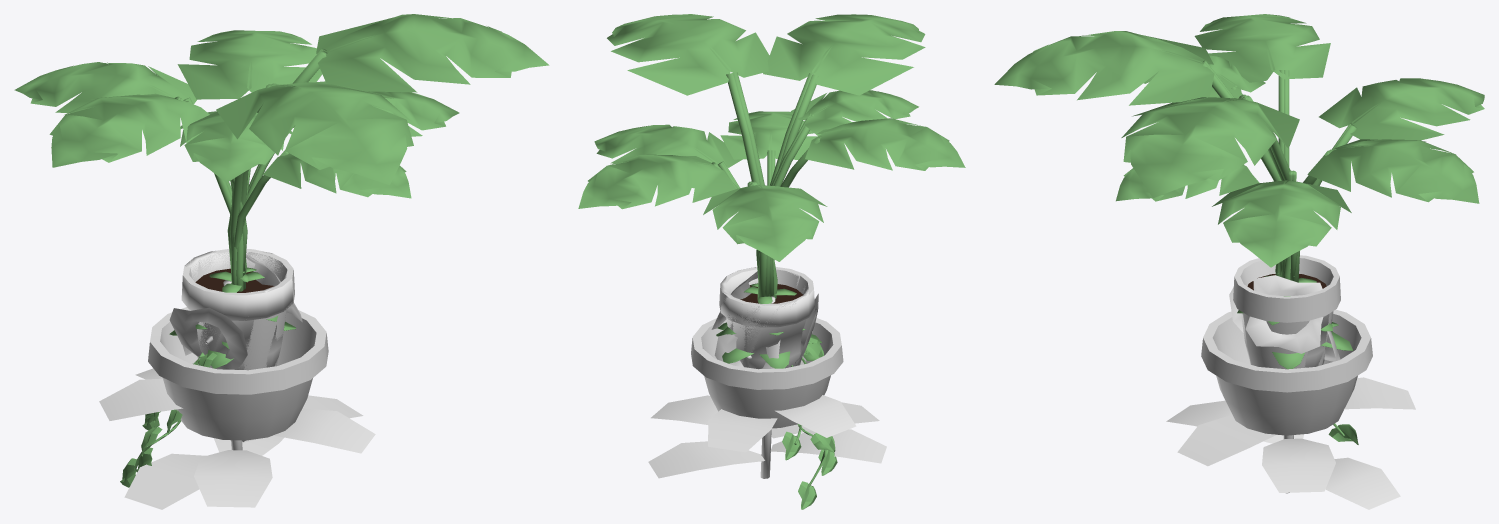
File: Vegetation.fbx
3 renders of one model, left to right at view 1: azimuth 30°, elevation 25°; view 2: azimuth 150°, elevation 25°; view 3: azimuth 270°, elevation 25°, orthographic. The views are drawn at different scales.
Parts seen in each view (by area): view 1: Mosntera, Flower, FlowerPot2, FlowerPot, Creeper, Plant; view 2: Mosntera, Flower, FlowerPot2, FlowerPot, Creeper, Plant; view 3: Mosntera, Flower, FlowerPot2, FlowerPot, Plant.
Part boxes in pixels (x1,y1,x2,y2): Mosntera: [14, 14, 549, 369]; Flower: [99, 254, 375, 509]; FlowerPot2: [148, 307, 328, 440]; FlowerPot: [183, 249, 294, 370]; Creeper: [120, 352, 216, 487]; Plant: [169, 267, 295, 368]; Mosntera: [578, 14, 965, 369]; Flower: [648, 271, 886, 478]; FlowerPot2: [691, 318, 843, 428]; FlowerPot: [719, 267, 813, 367]; Creeper: [782, 338, 837, 509]; Plant: [716, 283, 821, 368]; Mosntera: [994, 14, 1484, 367]; Flower: [1166, 275, 1415, 509]; FlowerPot2: [1201, 309, 1372, 435]; FlowerPot: [1233, 255, 1340, 369]; Plant: [1237, 273, 1353, 369].
Size of the model in its own units: 1.69 by 1.68 by 1.69.
